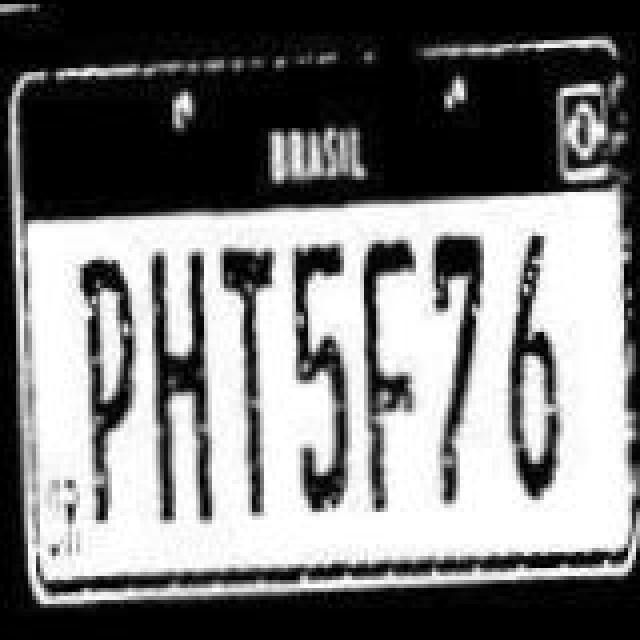5: (282, 230, 358, 526)
6: (500, 222, 572, 514)
7: (418, 220, 502, 516)
F: (352, 230, 424, 522)
H: (144, 242, 220, 534)
P: (72, 246, 148, 538)
T: (218, 242, 290, 526)
